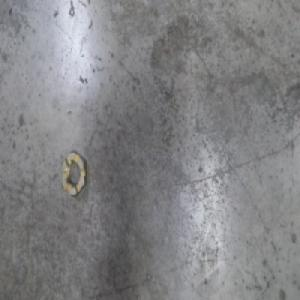Nut: (60, 151, 88, 198)
